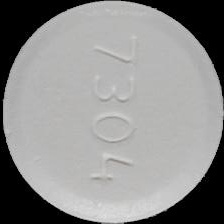0093-7304: (0, 0, 224, 224)
